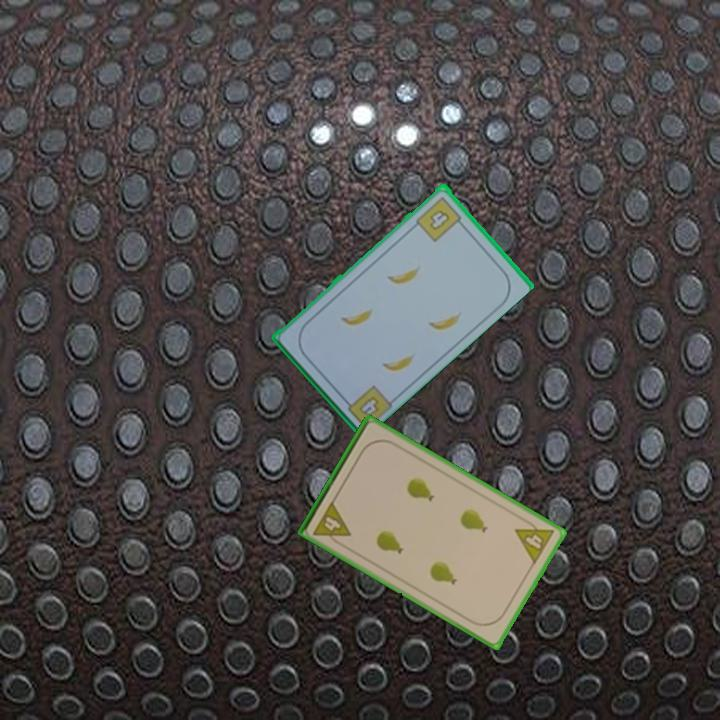4b: (412, 193, 467, 244), (338, 381, 394, 430)
4p: (512, 514, 557, 567), (310, 497, 354, 549)
